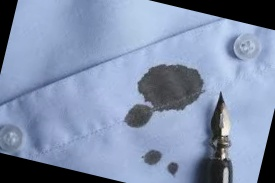ink: (135, 57, 207, 120), (122, 107, 150, 129), (144, 149, 162, 166), (167, 161, 179, 175)
